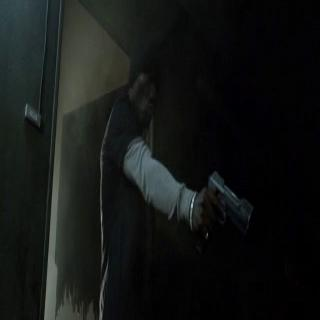gun: (190, 162, 254, 244)
